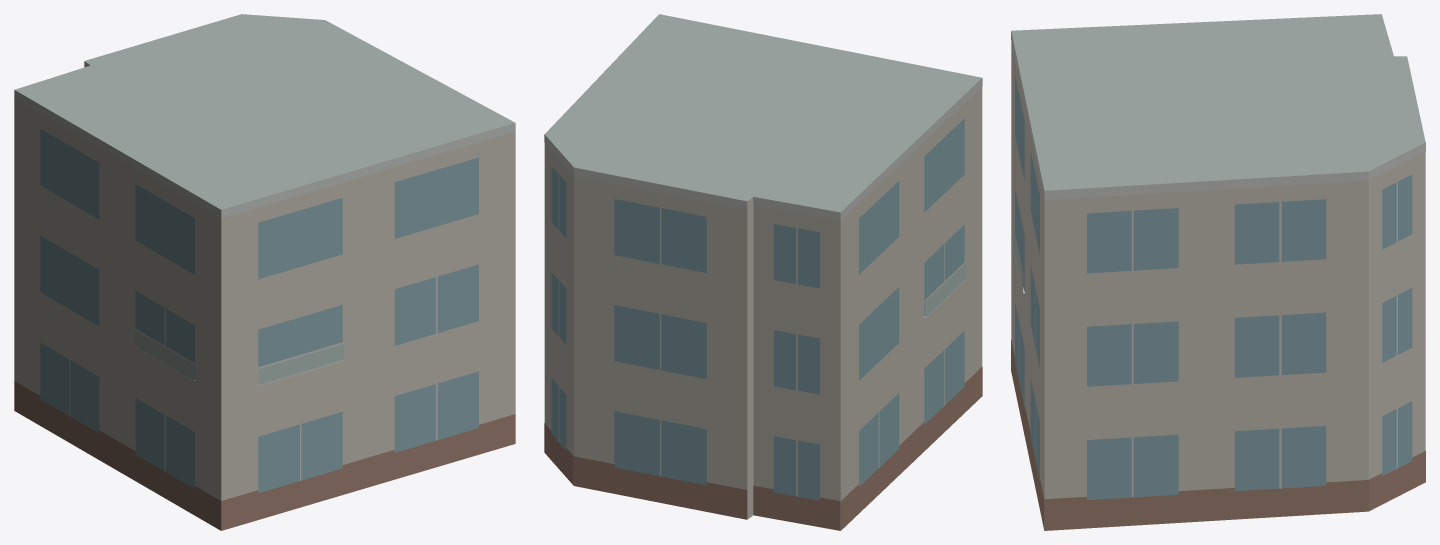
The model's file is survey-upis-33044019.glb.
3 views of the same model, side by side, from view 1: azimuth 30°, elevation 25°; view 2: azimuth 150°, elevation 25°; view 3: azimuth 270°, elevation 25° (orthographic). The views are drawn at different scales.
Parts seen in each view (by area): view 1: survey-upis-33044019.tmp; view 2: survey-upis-33044019.tmp; view 3: survey-upis-33044019.tmp.
Part boxes in pixels (bbox=[...]): survey-upis-33044019.tmp: bbox=[14, 14, 515, 530]; survey-upis-33044019.tmp: bbox=[544, 14, 982, 530]; survey-upis-33044019.tmp: bbox=[1011, 14, 1425, 530].
Size of the model in its own units: 10.22 by 9.15 by 10.12.
